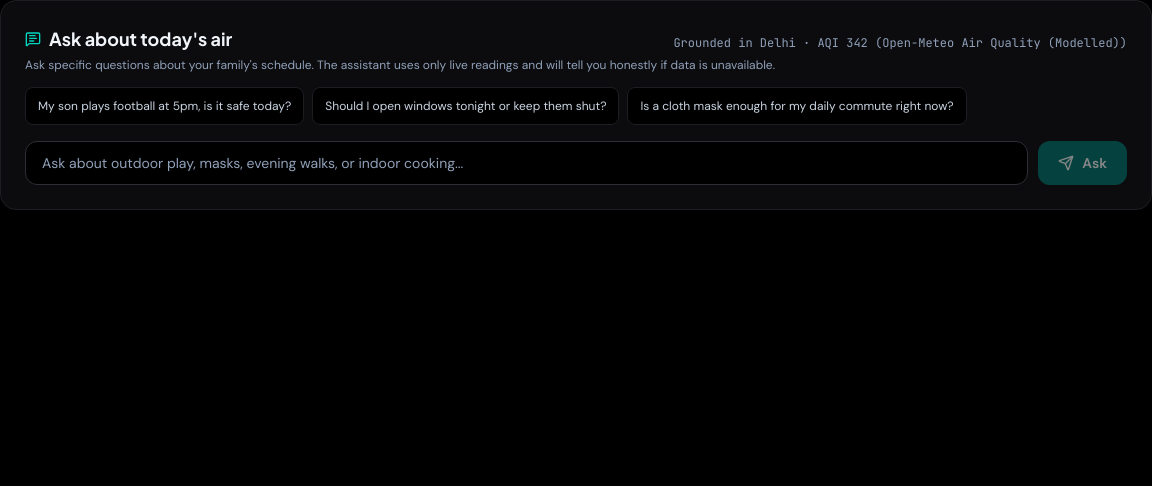
Scenario: Core Decision-Support UI Components › submits grounded Q&A question in GroundedChat and renders live answer
Click the button "My son plays football at 5pm, is it safe today?" at (165, 106), box [25,87,304,125]
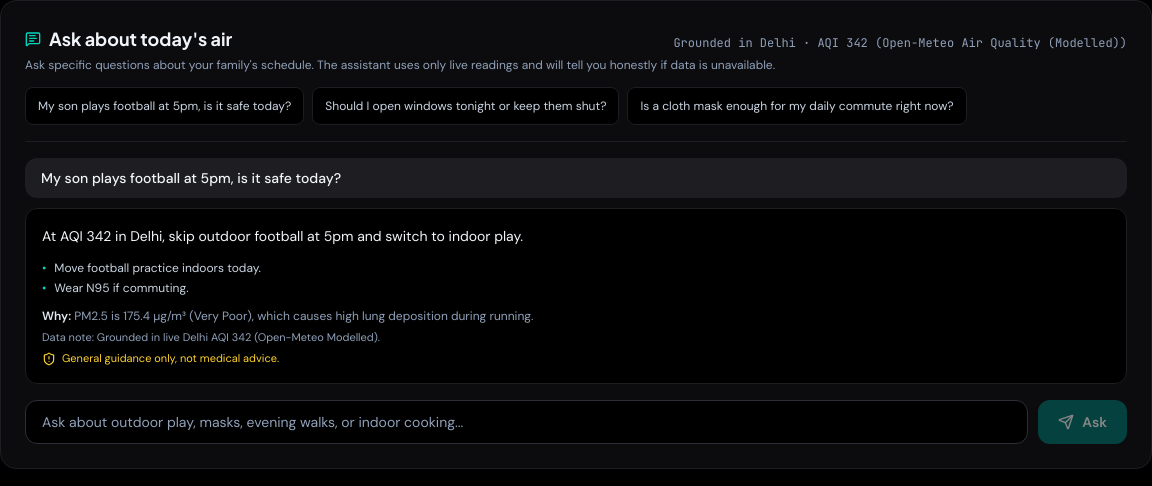
Check: the text "skip outdoor football at 5pm" is shown, box [42,227,523,245]
